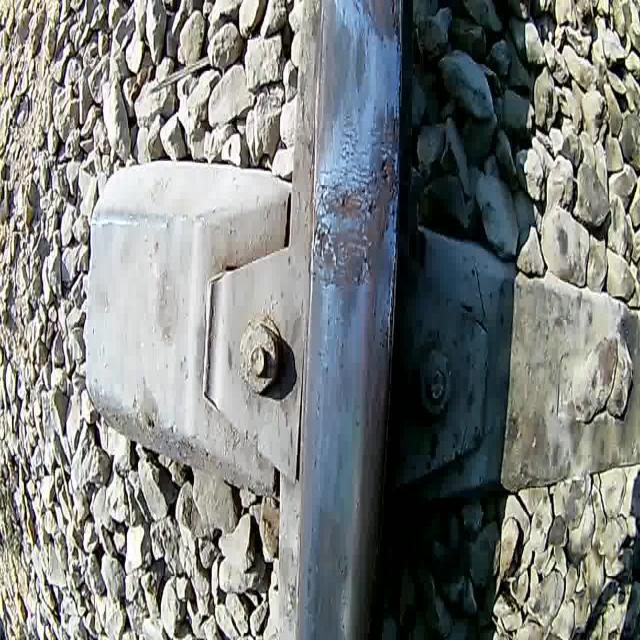Cracks: (388, 0, 398, 39)
Spallings: (376, 110, 399, 215), (337, 177, 368, 226), (314, 213, 336, 269), (354, 248, 376, 288)
Squats: (310, 98, 407, 294), (366, 0, 404, 56), (350, 19, 372, 96)
